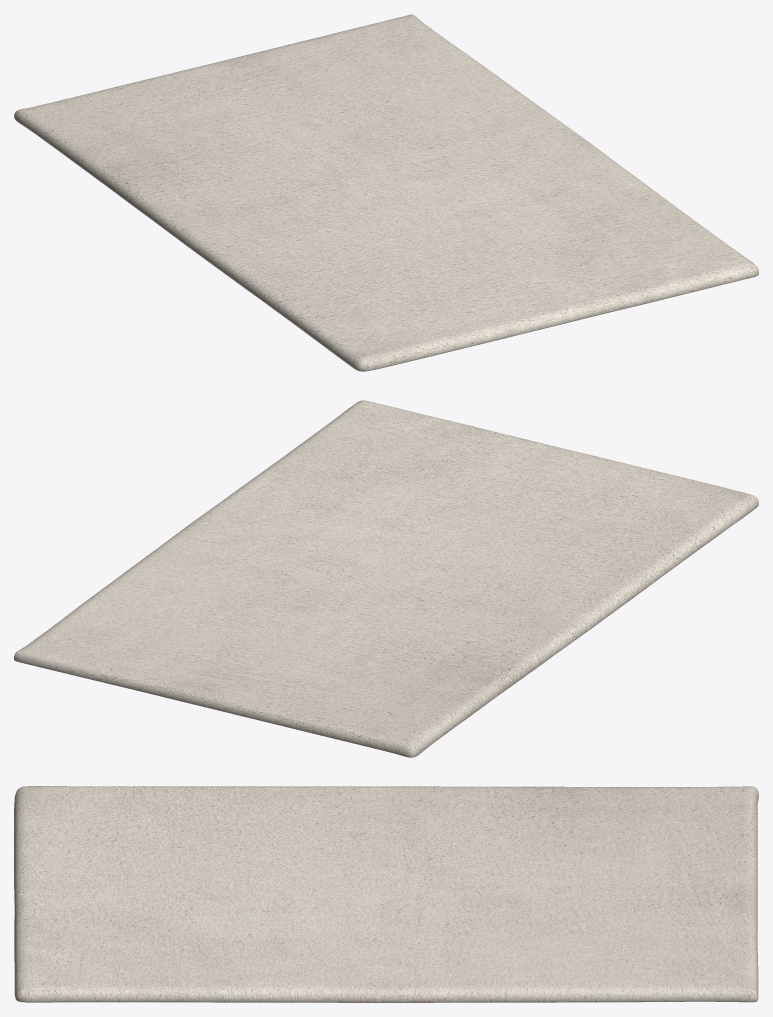
File: aerende_rug_high_pile_off_white.glb
3 views of the same model, one above another, from view 1: azimuth 30°, elevation 25°; view 2: azimuth 150°, elevation 25°; view 3: azimuth 270°, elevation 25° (orthographic). The views are drawn at different scales.
Visible parts, largest first — view 1: 001; view 2: 001; view 3: 001.
Boxes of the visible parts, x1=… form: 001: x1=14, y1=14, x2=758, y2=371; 001: x1=14, y1=400, x2=758, y2=757; 001: x1=14, y1=786, x2=758, y2=1002.
Size of the model in its own units: 1.2 by 0.0301 by 1.8.
Materials: 3 (3 with a texture image).
